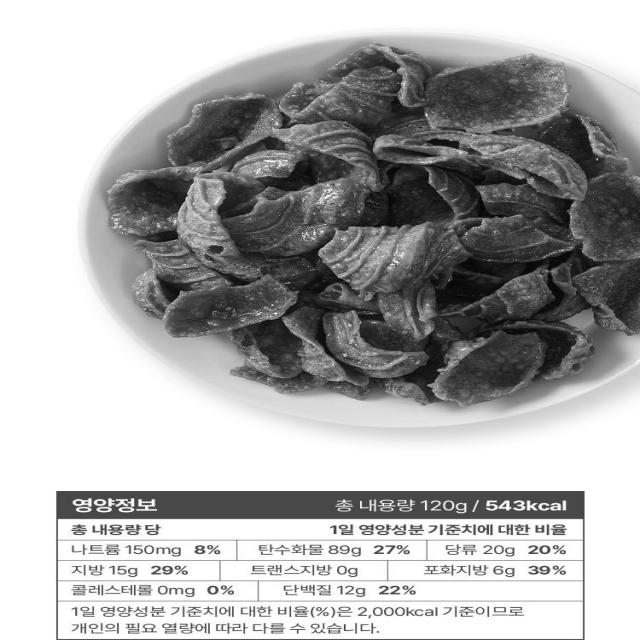Nutrition Label: (37, 477, 617, 640)
